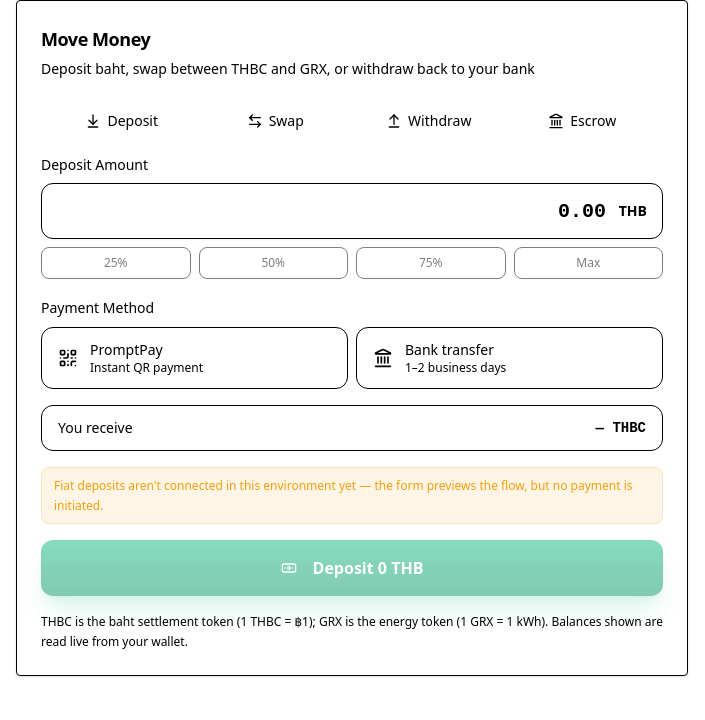
Scenario: WalletActions › quotes THBC→GRX from the VWAP when the book is empty, and flips
Step 1. Press the mouse on the tab with test id "swap-tab" → [275, 121], box [198,107,352,135]
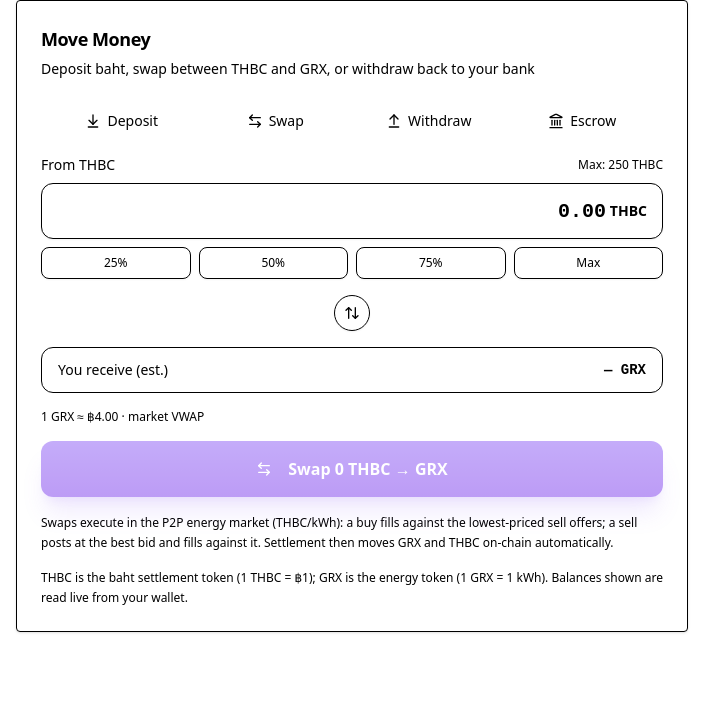
Step 2. Type "100" into the number field with test id "escrow-amount-input" → [352, 211], box [41,183,663,239]
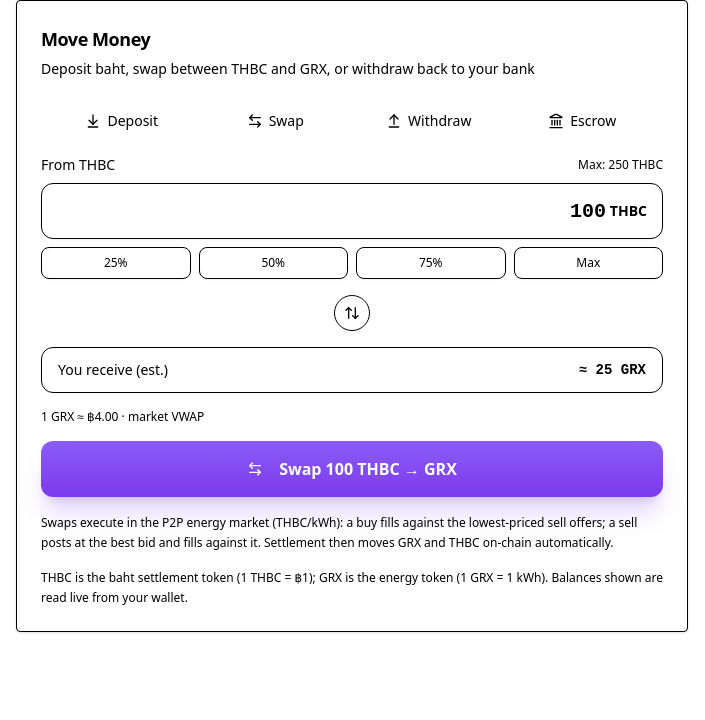
Check: the text "1 GRX ≈ ฿4.00 · market VWAP" is shown, box [41,408,204,425]
Check: the text "Max: 250 THBC" is shown, box [578,157,663,173]
Check: the text "≈ 25 GRX" is shown, box [579,360,646,380]
Step 3. Click the button with test id "swap-flip-button" → [352, 313], box [334,295,370,331]
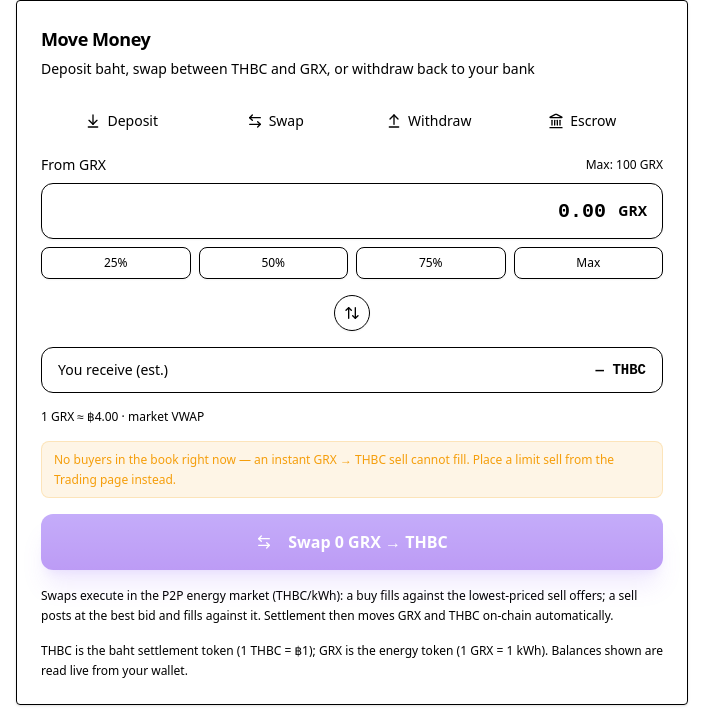
Step 4. Type "10" into the number field with test id "escrow-amount-input" → [352, 211], box [41,183,663,239]
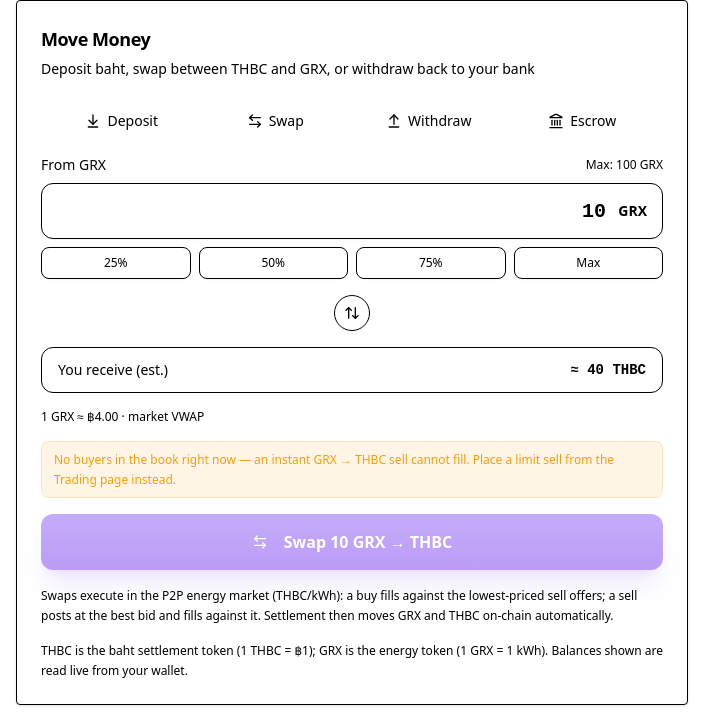
Check: the text "Max: 100 GRX" is shown, box [586,157,663,173]
Check: the text "≈ 40 THBC" is shown, box [570,360,646,380]
